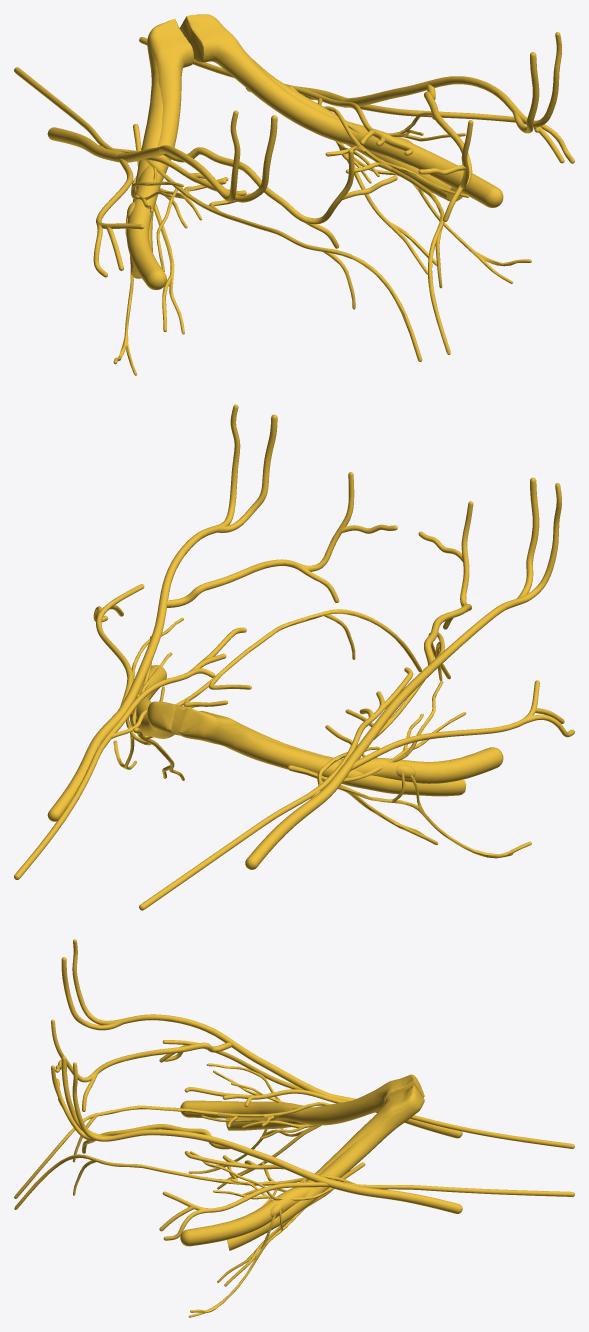
Rendered from nerves.glb.
3 views of the same model, one above another, from view 1: azimuth 30°, elevation 25°; view 2: azimuth 150°, elevation 25°; view 3: azimuth 270°, elevation 25° (orthographic). The views are drawn at different scales.
Parts seen in each view (by area): view 1: grp1 (×7); view 2: grp1 (×7); view 3: grp1 (×7).
Boxes of the visible parts, bbox=[...] form: grp1 (×7): bbox=[14, 14, 574, 375]; grp1 (×7): bbox=[14, 404, 574, 910]; grp1 (×7): bbox=[14, 939, 574, 1317].
Size of the model in its own units: 0.087 by 0.0548 by 0.1138.
